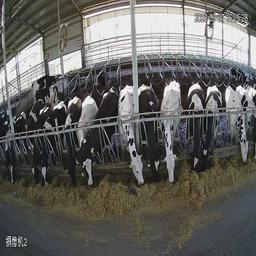cow: (114, 74, 147, 193), (74, 77, 104, 196), (37, 91, 65, 188), (139, 73, 162, 188), (21, 94, 46, 198), (61, 92, 84, 204), (164, 69, 185, 188), (224, 81, 248, 176), (4, 109, 29, 195), (204, 70, 219, 185), (187, 71, 202, 181), (34, 67, 61, 94)
